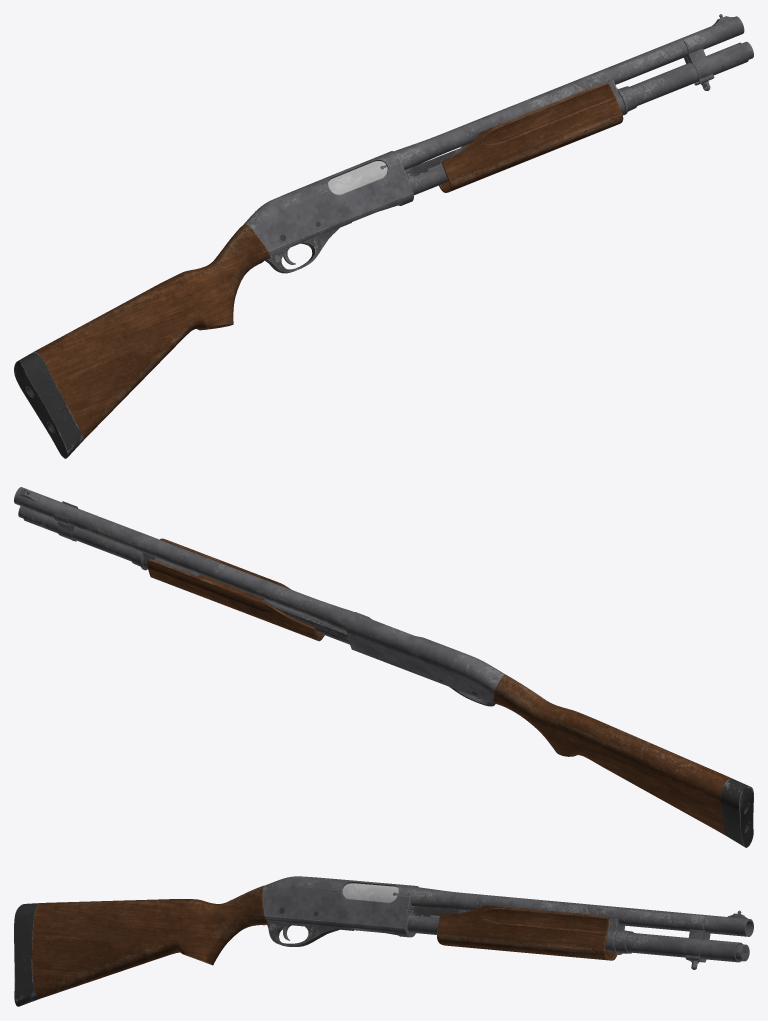
The model's file is sg-pump.glb.
The picture shows the model from 3 angles, top to bottom: view 1: azimuth 30°, elevation 25°; view 2: azimuth 150°, elevation 25°; view 3: azimuth 330°, elevation 25°; orthographic projection. The views are drawn at different scales.
Parts seen in each view (by area): view 1: StockWood_Lp__0, Barrel_Lp, Grip_Lp__0, Body_Lp__0, StockPlastic_Lp__0, EjectorTop_Lp, BarrelHolder_Lp, Triggerholder_Lp__0; view 2: StockWood_Lp__0, Barrel_Lp, Body_Lp__0, Grip_Lp__0, StockPlastic_Lp__0; view 3: StockWood_Lp__0, Barrel_Lp, Grip_Lp__0, Body_Lp__0, StockPlastic_Lp__0, EjectorTop_Lp, Triggerholder_Lp__0, BarrelHolder_Lp, BarrelPump_Lp__0.
Part boxes in pixels (x1,y1,x2,y2): StockWood_Lp__0: (34,224,269,439); Barrel_Lp: (394,14,753,195); Grip_Lp__0: (439,83,623,192); Body_Lp__0: (244,151,413,254); StockPlastic_Lp__0: (14,351,83,458); EjectorTop_Lp: (328,161,387,194); BarrelHolder_Lp: (683,34,714,90); Triggerholder_Lp__0: (265,222,351,273); StockWood_Lp__0: (492,674,731,834); Barrel_Lp: (14,487,353,644); Body_Lp__0: (346,612,504,703); Grip_Lp__0: (147,538,324,641); StockPlastic_Lp__0: (719,778,753,847); StockWood_Lp__0: (32,885,268,998); Barrel_Lp: (407,887,753,962); Grip_Lp__0: (437,905,617,960); Body_Lp__0: (262,876,418,937); StockPlastic_Lp__0: (14,903,40,1006); EjectorTop_Lp: (342,883,398,902); Triggerholder_Lp__0: (266,920,353,946); BarrelHolder_Lp: (685,915,710,969); BarrelPump_Lp__0: (408,905,468,917).
Size of the model in its own units: 2.99 by 0.9062 by 0.3748.
Materials: 1 (1 with a texture image).
